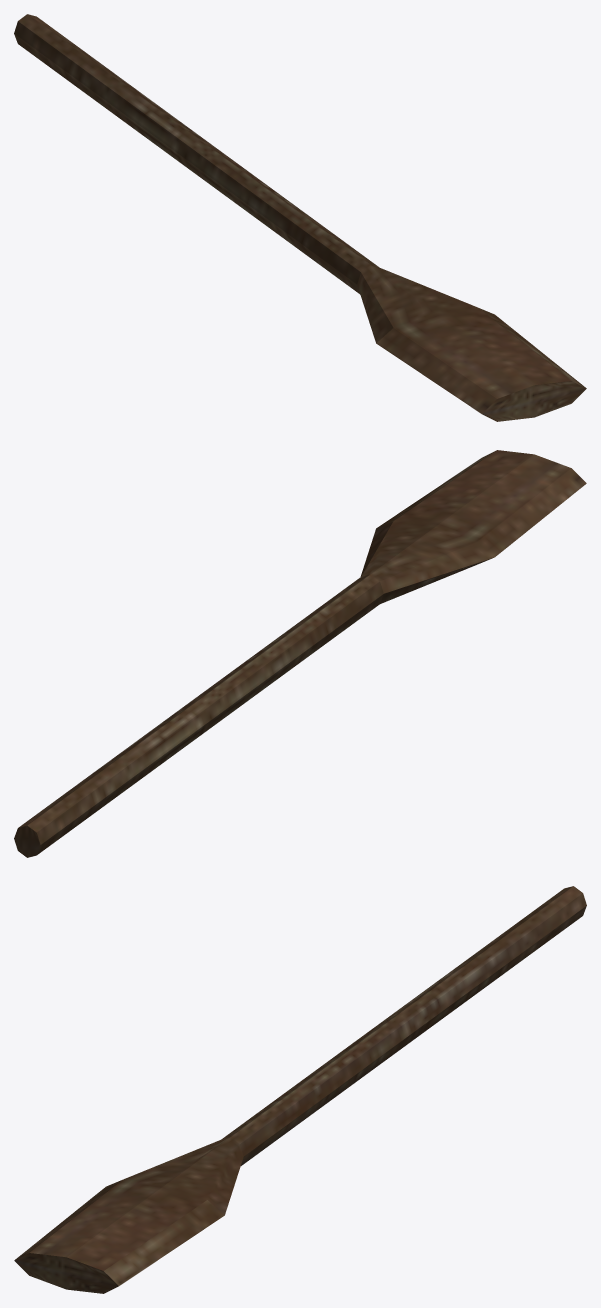
The model's file is SM_TI_Wood_1_Oar_0.fbx.
3 views of the same model, one above another, from view 1: azimuth 30°, elevation 25°; view 2: azimuth 150°, elevation 25°; view 3: azimuth 330°, elevation 25° (orthographic).
Parts seen in each view (by area): view 1: SM_TI_Wood_1_Oar_0; view 2: SM_TI_Wood_1_Oar_0; view 3: SM_TI_Wood_1_Oar_0.
Boxes of the visible parts, <box> form: SM_TI_Wood_1_Oar_0: <box>14,14,586,421</box>; SM_TI_Wood_1_Oar_0: <box>14,450,586,857</box>; SM_TI_Wood_1_Oar_0: <box>14,886,586,1293</box>.
Size of the model in its own units: 0.2704 by 2 by 0.0703.
